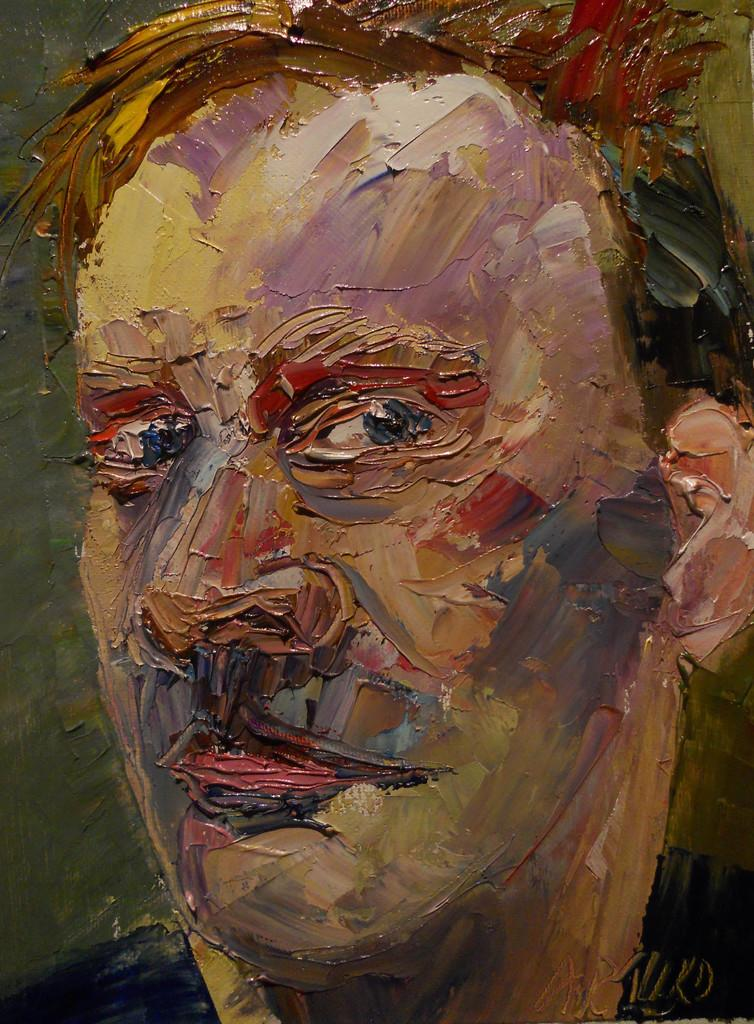Sem Máscara: (77, 79, 668, 964)
